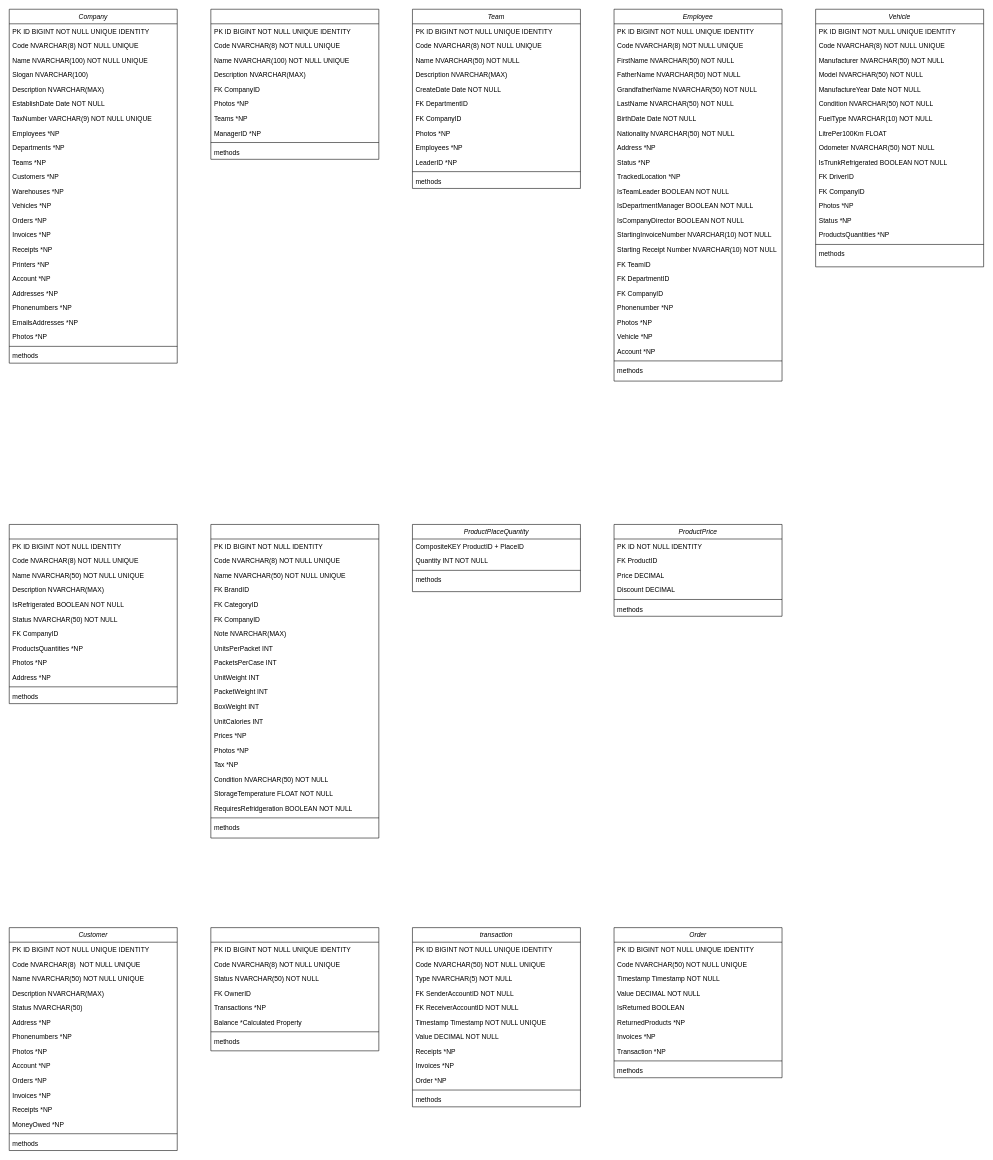
Some shapes in this 993 by 1160 pixel diagram are drawn without their labels. Here are the shapes that lost their labels. From the top down, the box of each, then its label:
(210, 9, 379, 159): Department
(9, 524, 177, 704): Warehouse
(210, 524, 379, 838): Product
(210, 927, 379, 1051): Account
